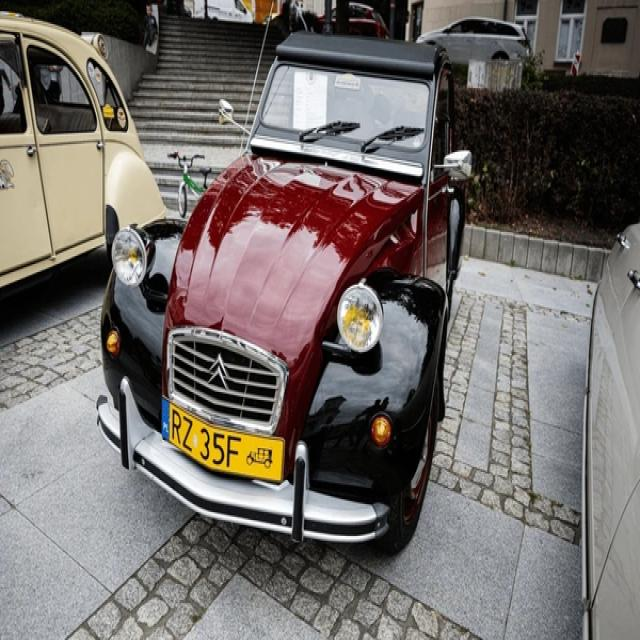citroen: (210, 351, 230, 390)
